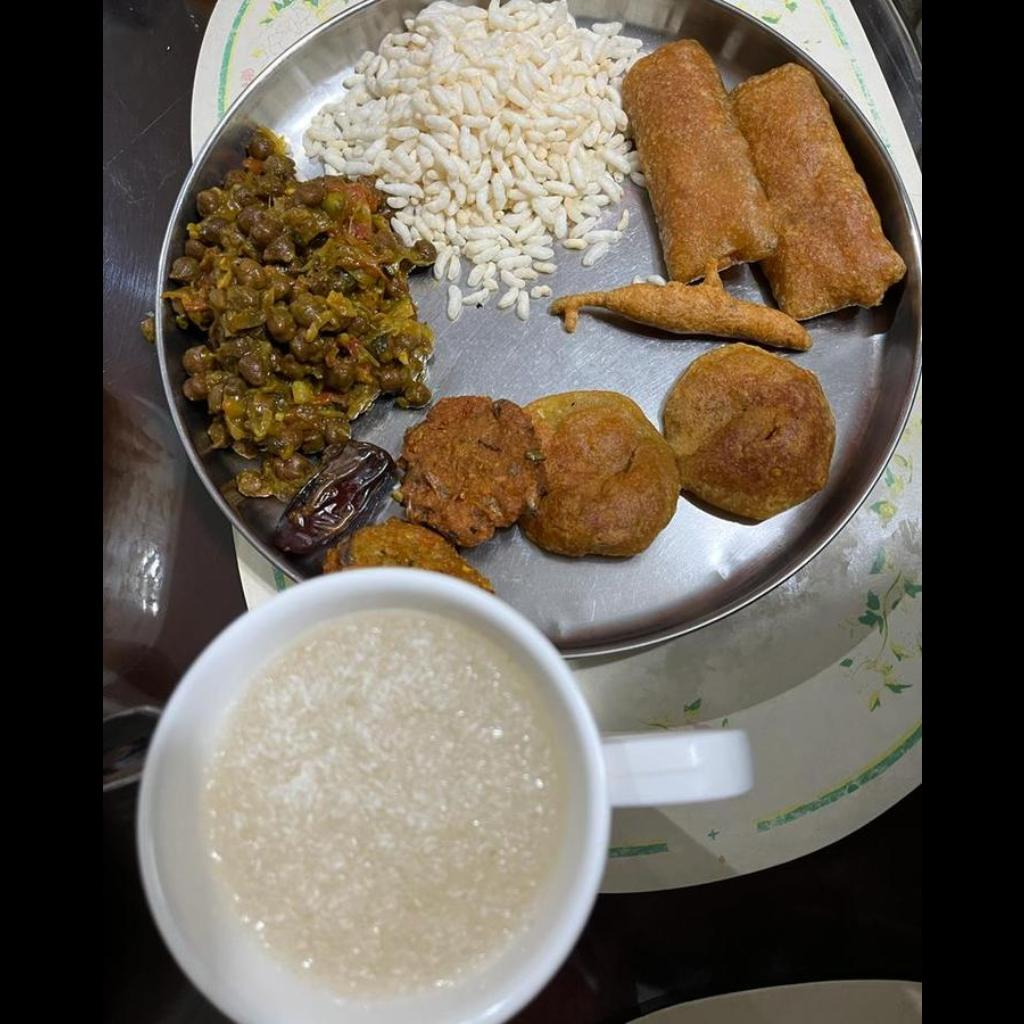beguni: (550, 40, 904, 350)
chola: (163, 129, 432, 501)
chop-alu: (522, 344, 832, 558)
dates: (269, 441, 394, 559)
juice: (189, 610, 558, 993)
piyaju: (323, 396, 539, 593)
puffed-rice: (302, 0, 639, 319)
